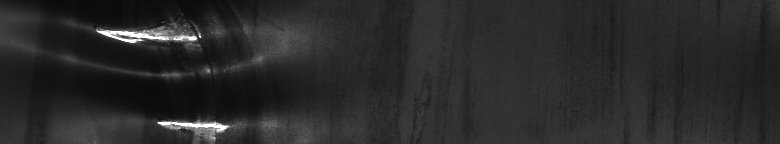ke: (7, 4, 287, 136)
